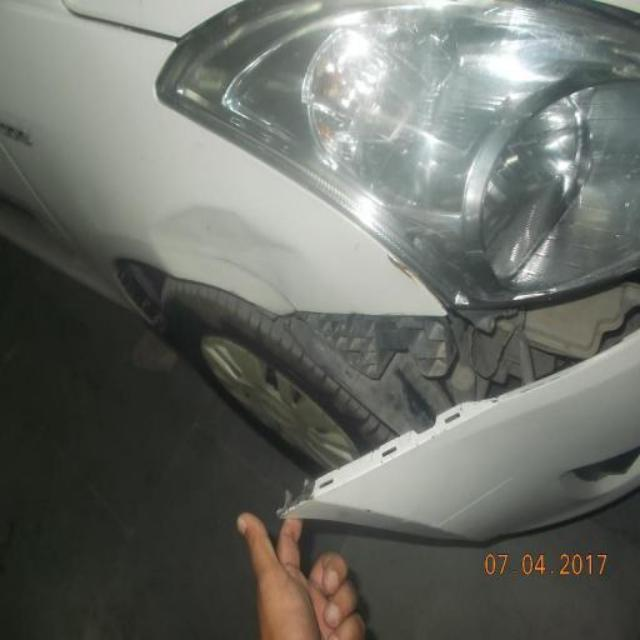dislocated part: (273, 274, 639, 508)
